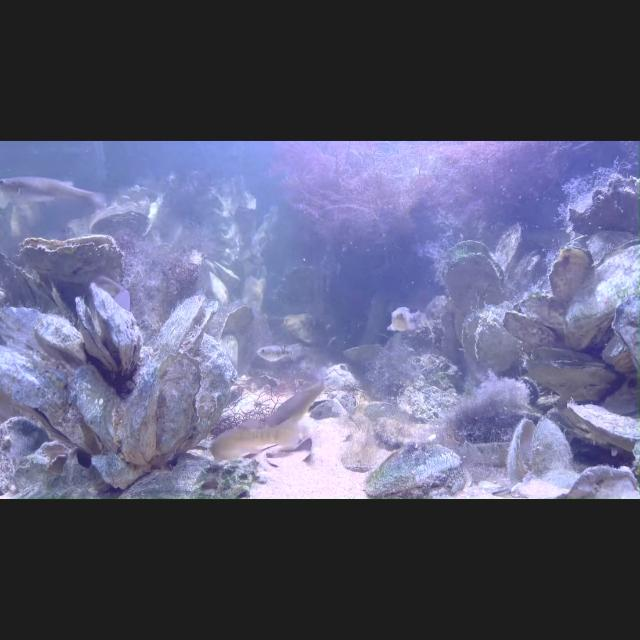Oyster-Closed: (564, 238, 640, 348), (526, 357, 620, 405), (72, 364, 122, 454), (156, 352, 200, 454), (195, 334, 238, 436), (120, 357, 160, 461), (566, 401, 640, 453), (0, 252, 60, 315), (0, 415, 48, 489), (548, 245, 594, 305), (502, 310, 558, 348), (496, 222, 524, 274)
Oyster-Open: (0, 345, 98, 454), (74, 282, 142, 380), (506, 418, 574, 490), (19, 234, 123, 274), (156, 294, 220, 356), (441, 238, 492, 306), (34, 313, 86, 367), (88, 202, 150, 238), (305, 398, 339, 420)
